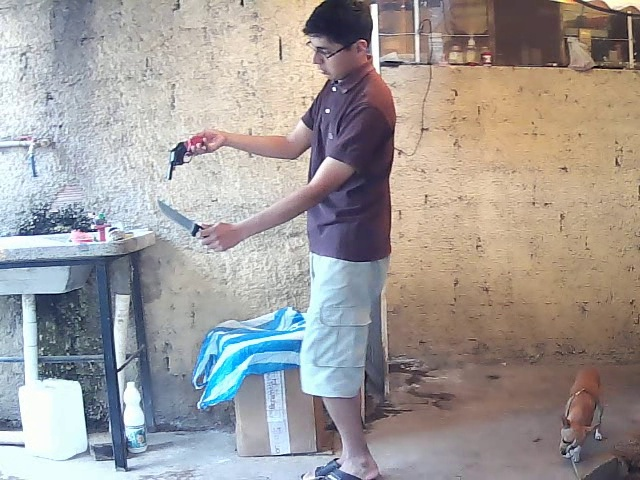cuchillo: (153, 194, 206, 238)
pistola: (162, 122, 211, 184)
